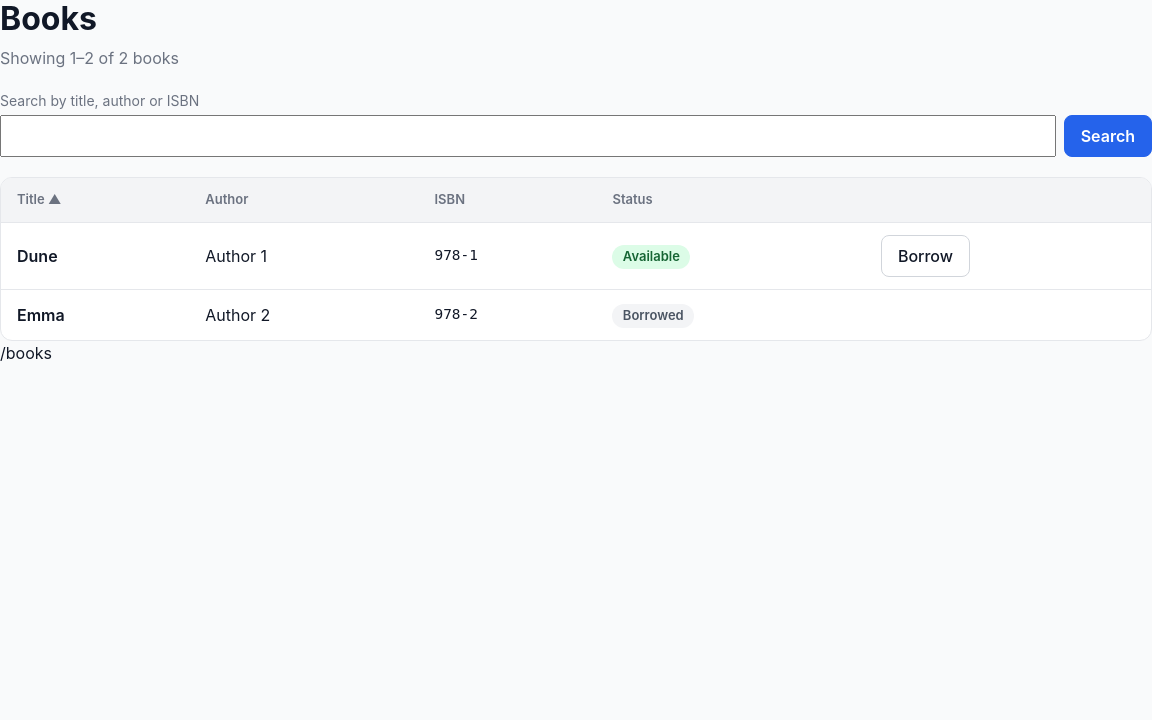
Test case: BooksPage borrowing › asks for confirmation with the title and the places left, and Cancel changes nothing
The width and height of the screenshot is (1152, 720).
Click the button with aria-label "Borrow Dune" at [925, 256], box [881,235,970,277]
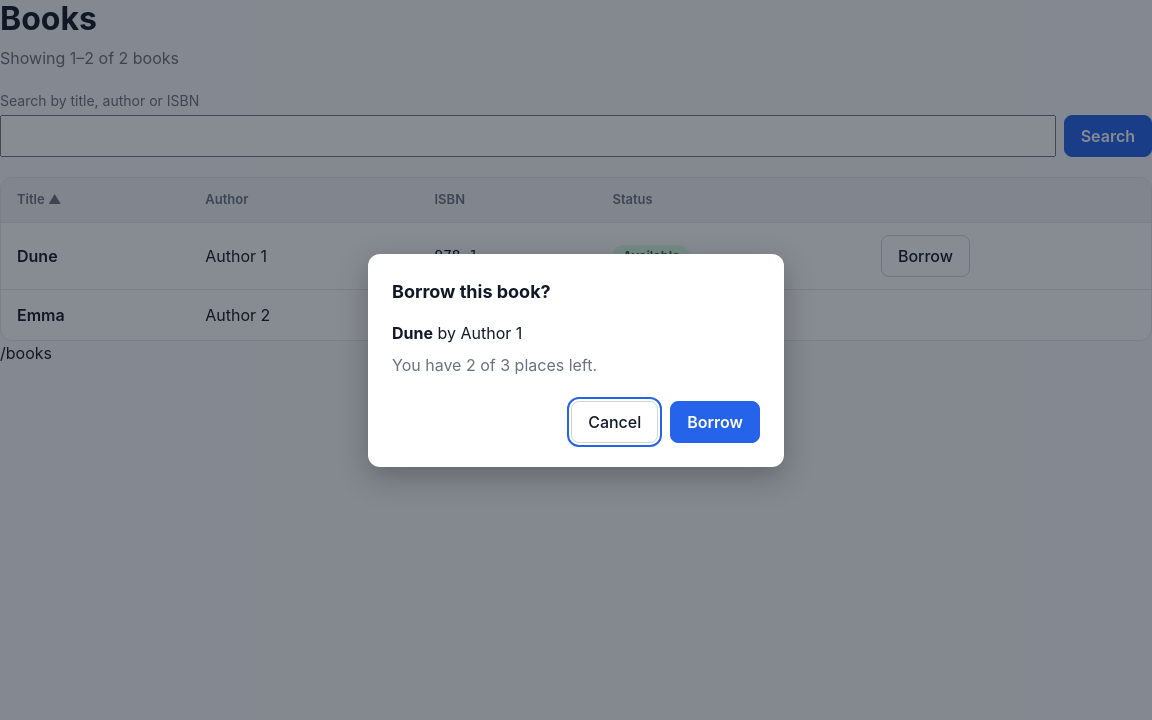
Check: the text "Dune" is shown, box [392,322,433,342]
Check: the text "You have 2 of 3 places left." is shown, box [392,354,597,374]
Click the button "Cancel" at [615, 422], box [571,400,658,442]
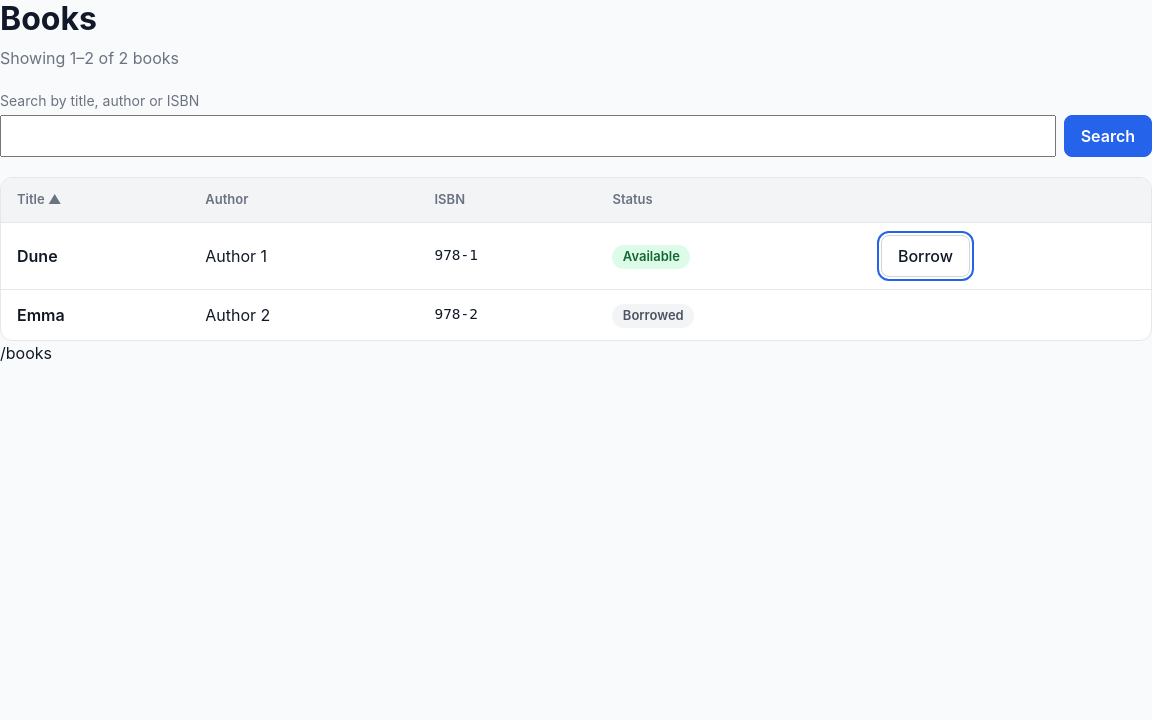
Check: the dialog is gone
